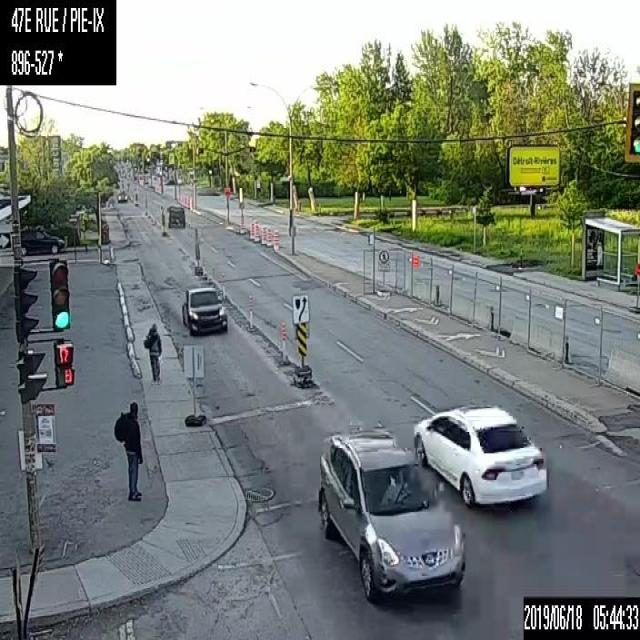construction: (253, 220, 260, 240), (248, 293, 252, 327), (260, 225, 266, 244), (282, 323, 285, 360), (273, 231, 279, 249), (266, 227, 272, 245), (221, 281, 224, 304), (250, 222, 254, 238)
pedestrian: (109, 399, 145, 500), (142, 320, 162, 381), (592, 236, 603, 284)
vehicle: (314, 429, 464, 600), (412, 404, 546, 504), (180, 284, 227, 332), (21, 228, 65, 253), (166, 203, 184, 225), (116, 188, 127, 201)
